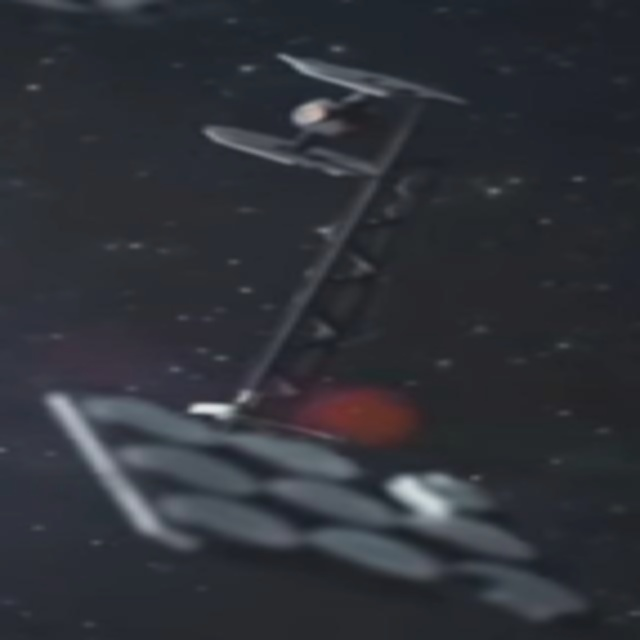large_debris: (54, 36, 607, 638), (0, 0, 255, 39)
